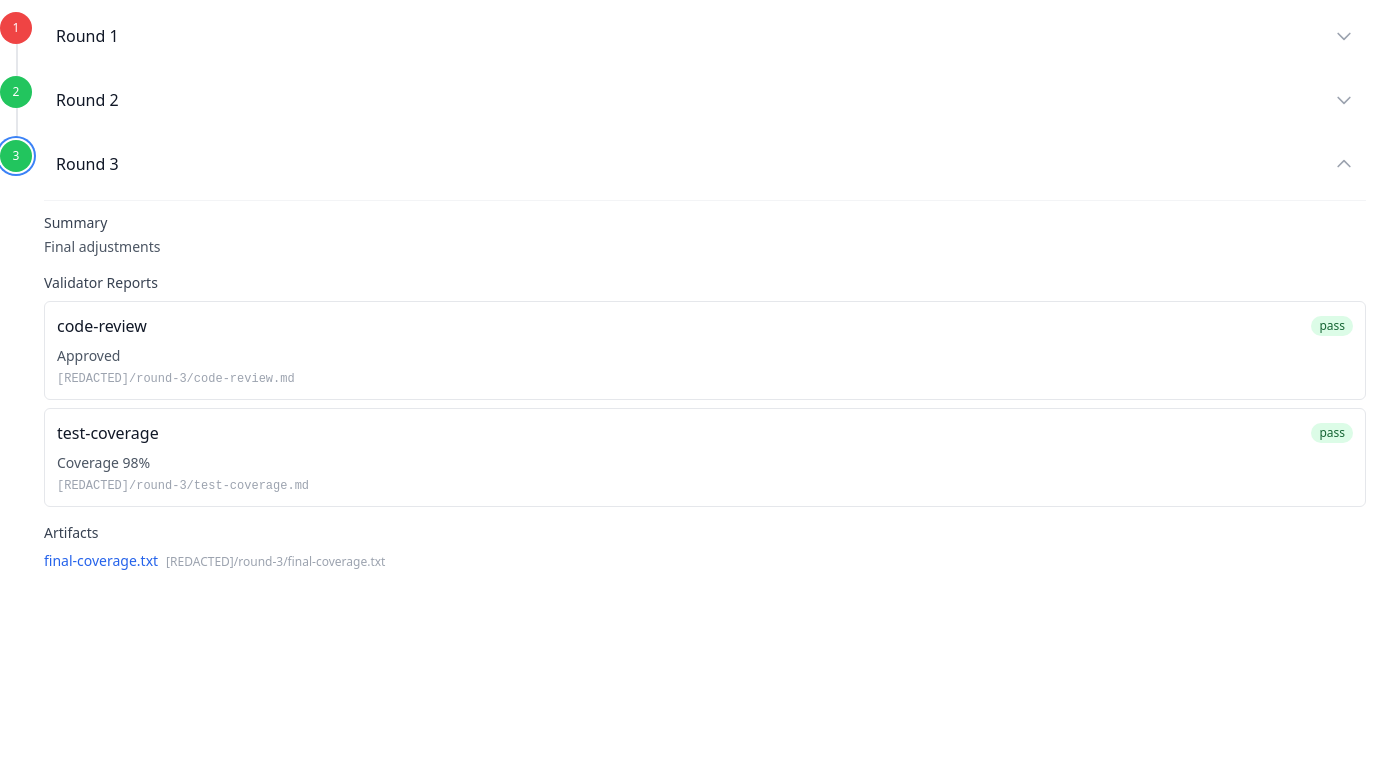
Test: RoundTimeline › Expand/Collapse › toggles round expansion on click
This screenshot has width=1378, height=775.
Note: Expand Round 1
Click the button "Round 1": (83, 36) [44,12,1366,60]
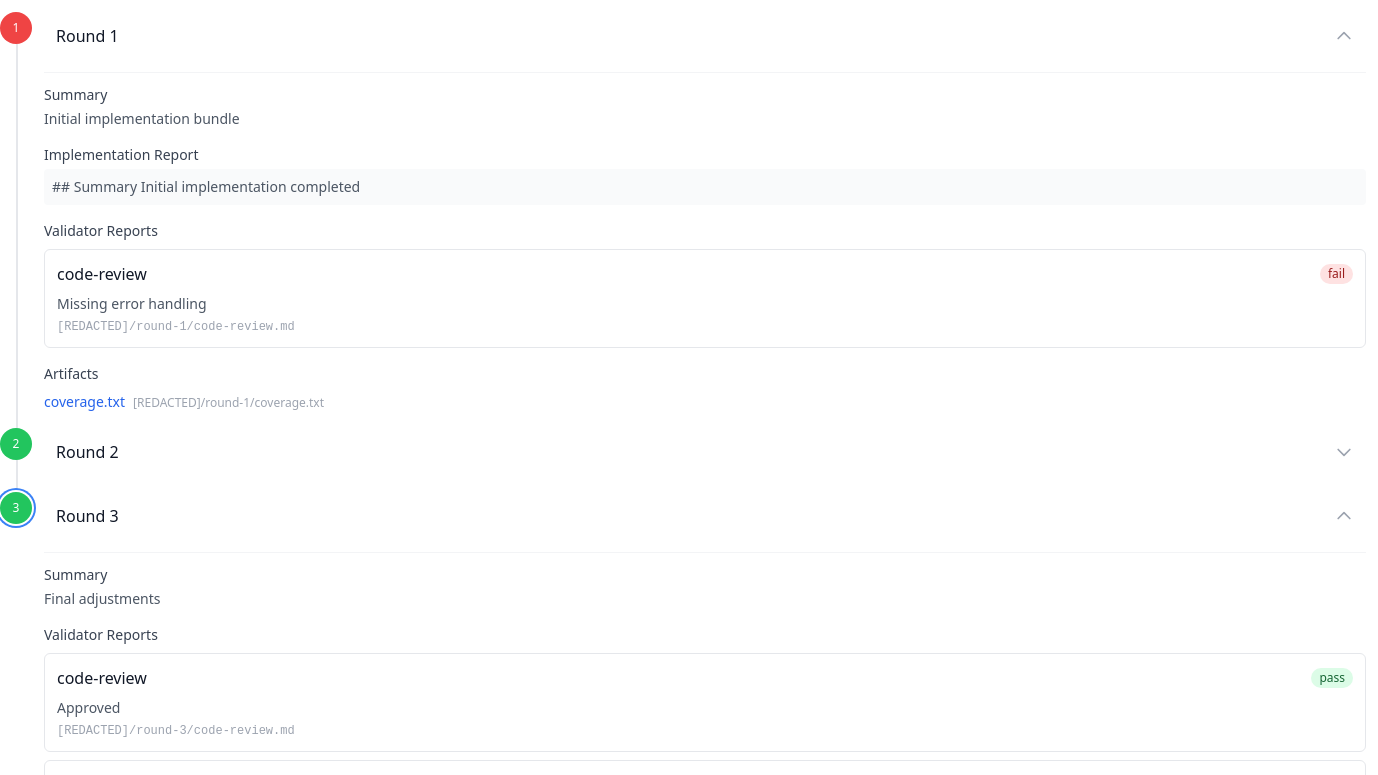
Result: the text "Initial implementation bundle" is shown at [44,109,240,128]
Note: Collapse Round 1
Click the button "Round 1": (83, 36) [44,12,1366,60]
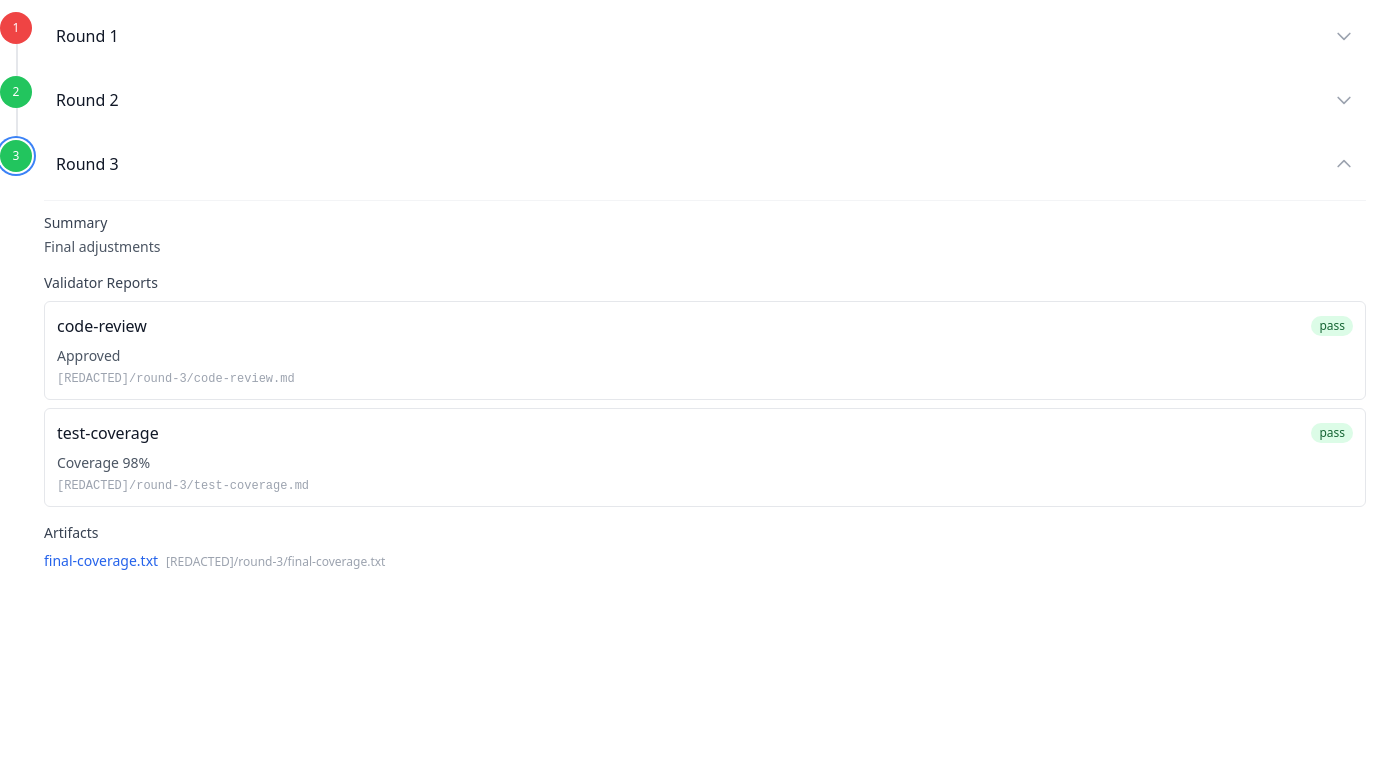
Result: the text "Initial implementation bundle" is gone
